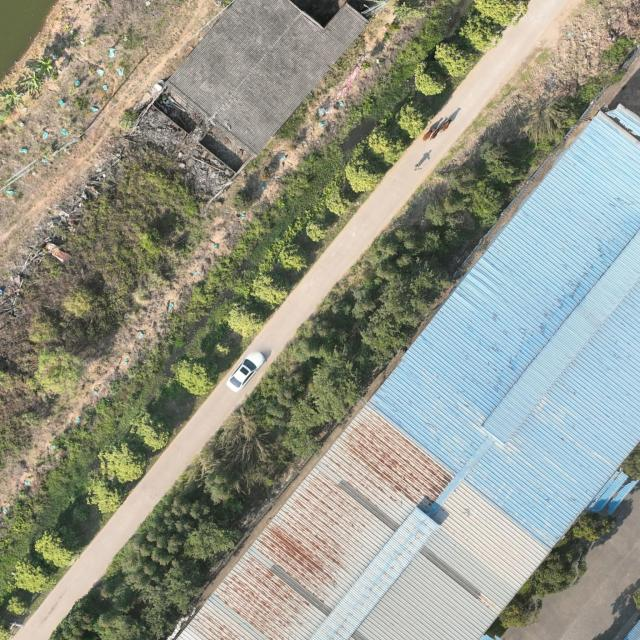tree: (34, 524, 83, 569), (97, 441, 147, 484), (170, 356, 219, 396), (85, 470, 127, 514), (128, 409, 170, 451), (11, 553, 52, 593), (250, 271, 290, 309), (458, 15, 499, 52), (225, 304, 266, 338), (344, 160, 383, 193), (367, 130, 404, 163), (413, 60, 446, 95), (434, 43, 469, 75), (397, 103, 425, 139), (276, 244, 308, 273), (323, 188, 355, 214), (305, 220, 327, 242), (7, 596, 28, 616)
